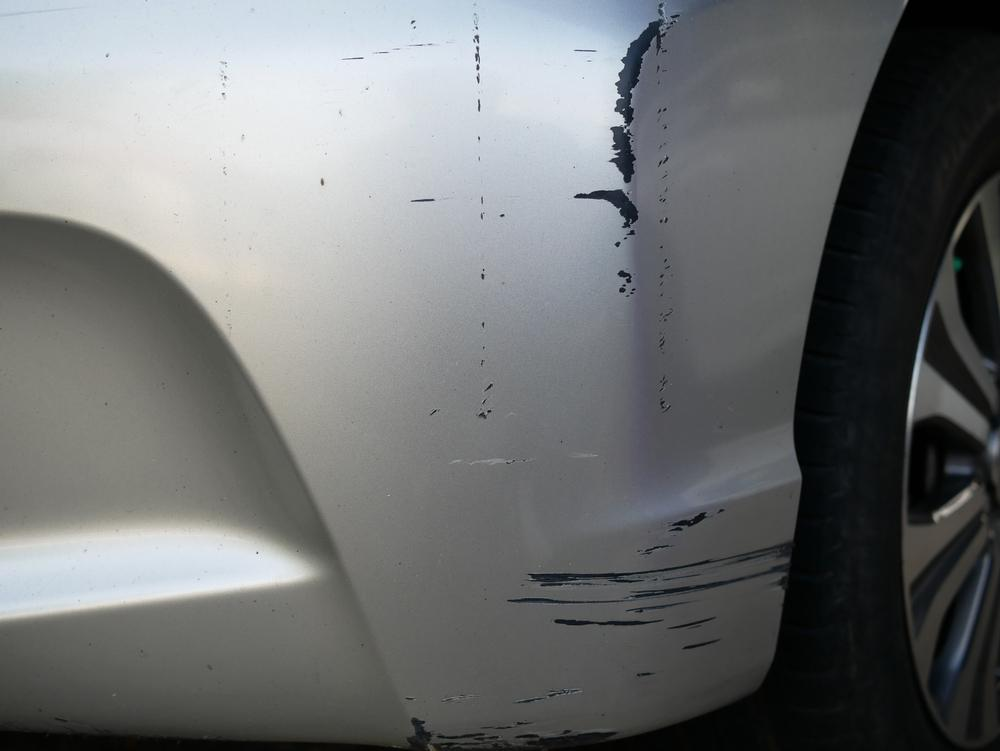scratch: (187, 0, 800, 751)
